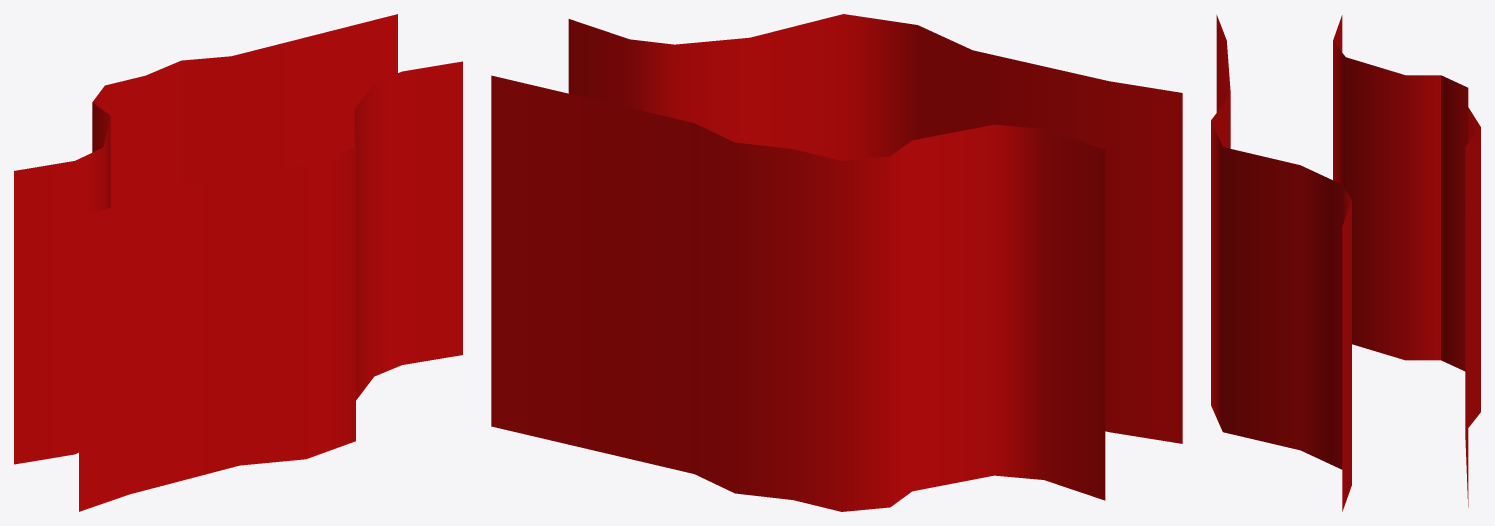
The picture shows the model from 3 angles, left to right: view 1: azimuth 30°, elevation 25°; view 2: azimuth 150°, elevation 25°; view 3: azimuth 270°, elevation 25°; orthographic projection. The views are drawn at different scales.
Parts seen in each view (by area): view 1: BG001_1035_00_c02; view 2: BG001_1035_00_c02; view 3: BG001_1035_00_c02.
Part boxes in pixels (left/top/right/bottom): BG001_1035_00_c02: left=14, top=14, right=462, bottom=511; BG001_1035_00_c02: left=491, top=14, right=1182, bottom=511; BG001_1035_00_c02: left=1211, top=15, right=1480, bottom=511.
Bounding box in the file's own units: 1600 × 1000 × 858.
